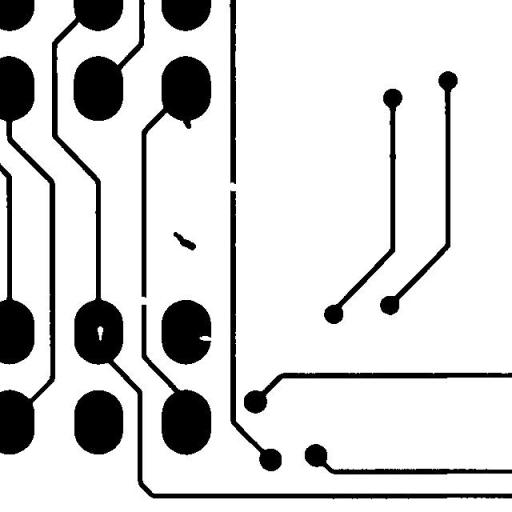copper: (166, 224, 203, 258)
mousebite: (191, 328, 220, 348)
open: (130, 289, 157, 312), (222, 174, 246, 198)
pin-hole: (90, 318, 110, 348)
spur: (172, 106, 198, 136)
